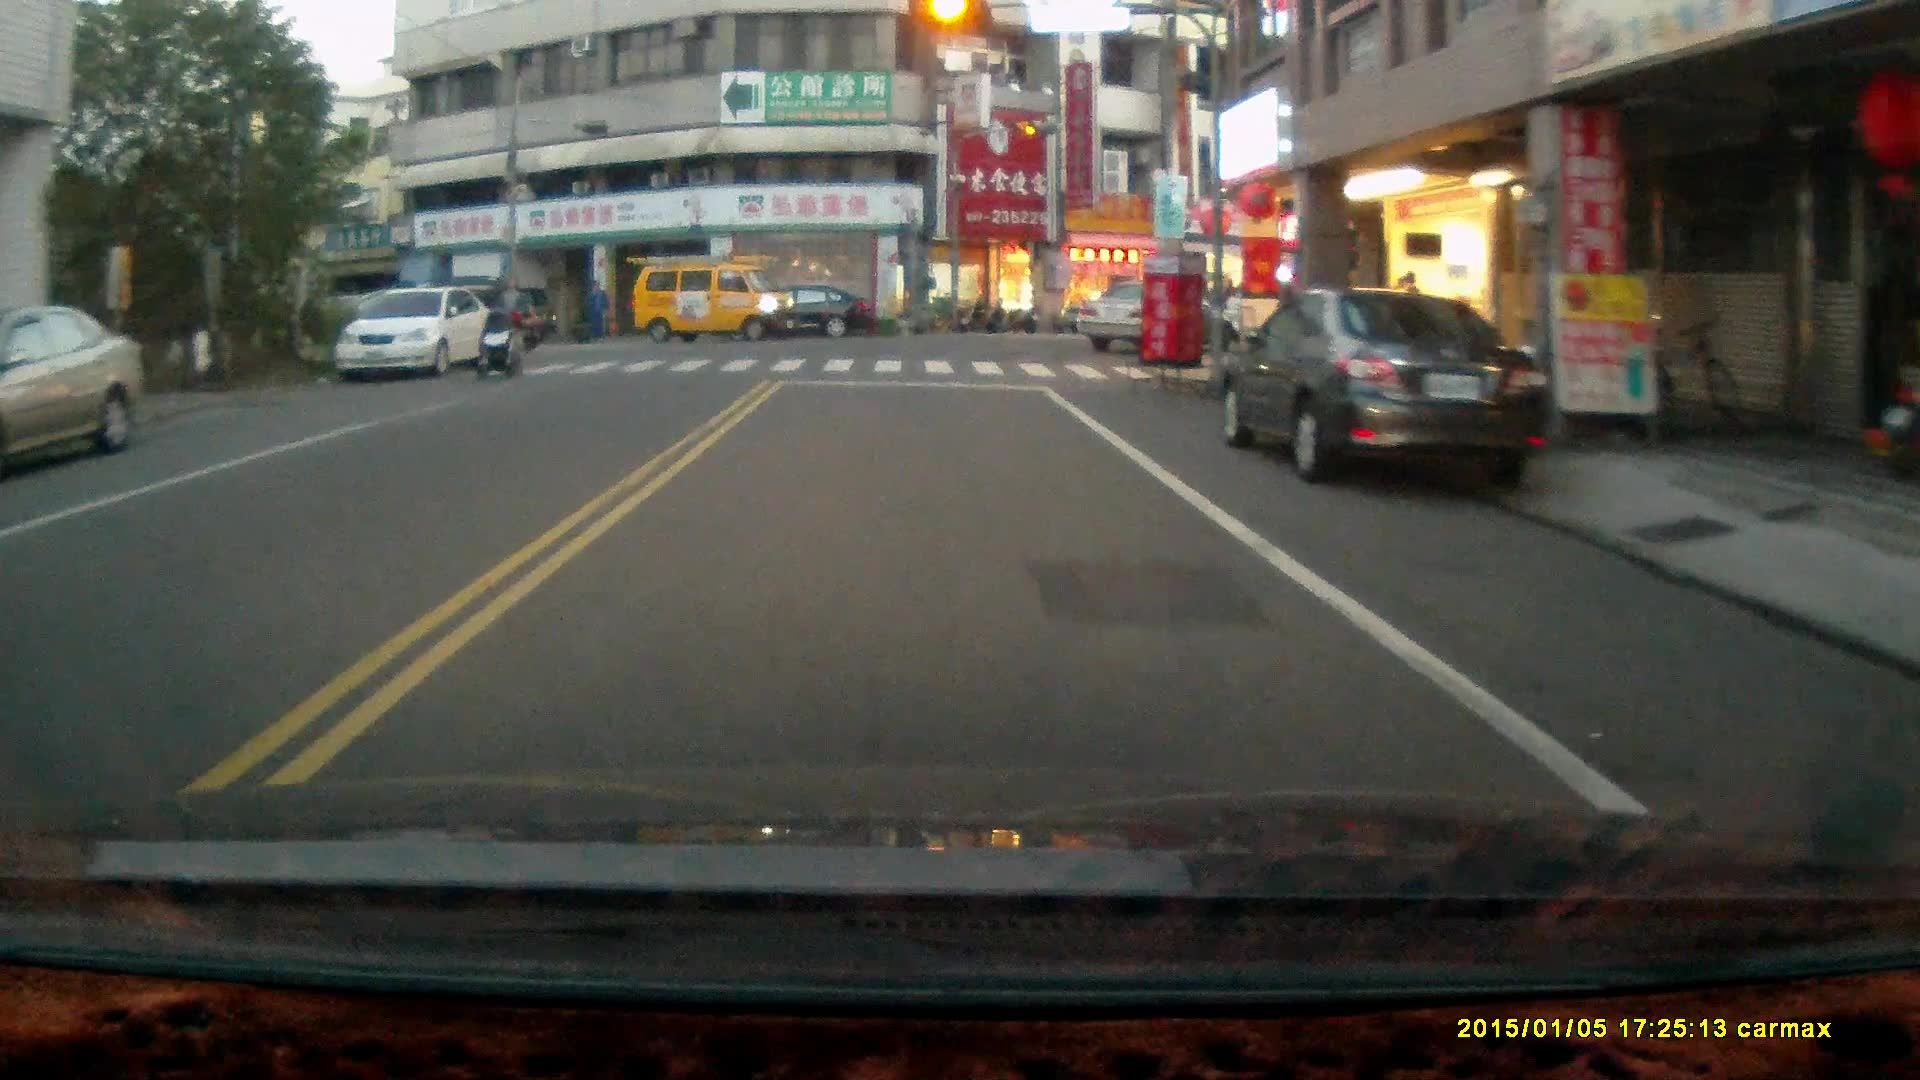pedestrian: (493, 274, 525, 362), (583, 276, 607, 339)
rider: (471, 308, 525, 381)
vehicle: (1219, 287, 1556, 495), (1, 298, 146, 476), (631, 256, 802, 347), (336, 287, 497, 383), (1072, 277, 1222, 352), (737, 283, 877, 343)
